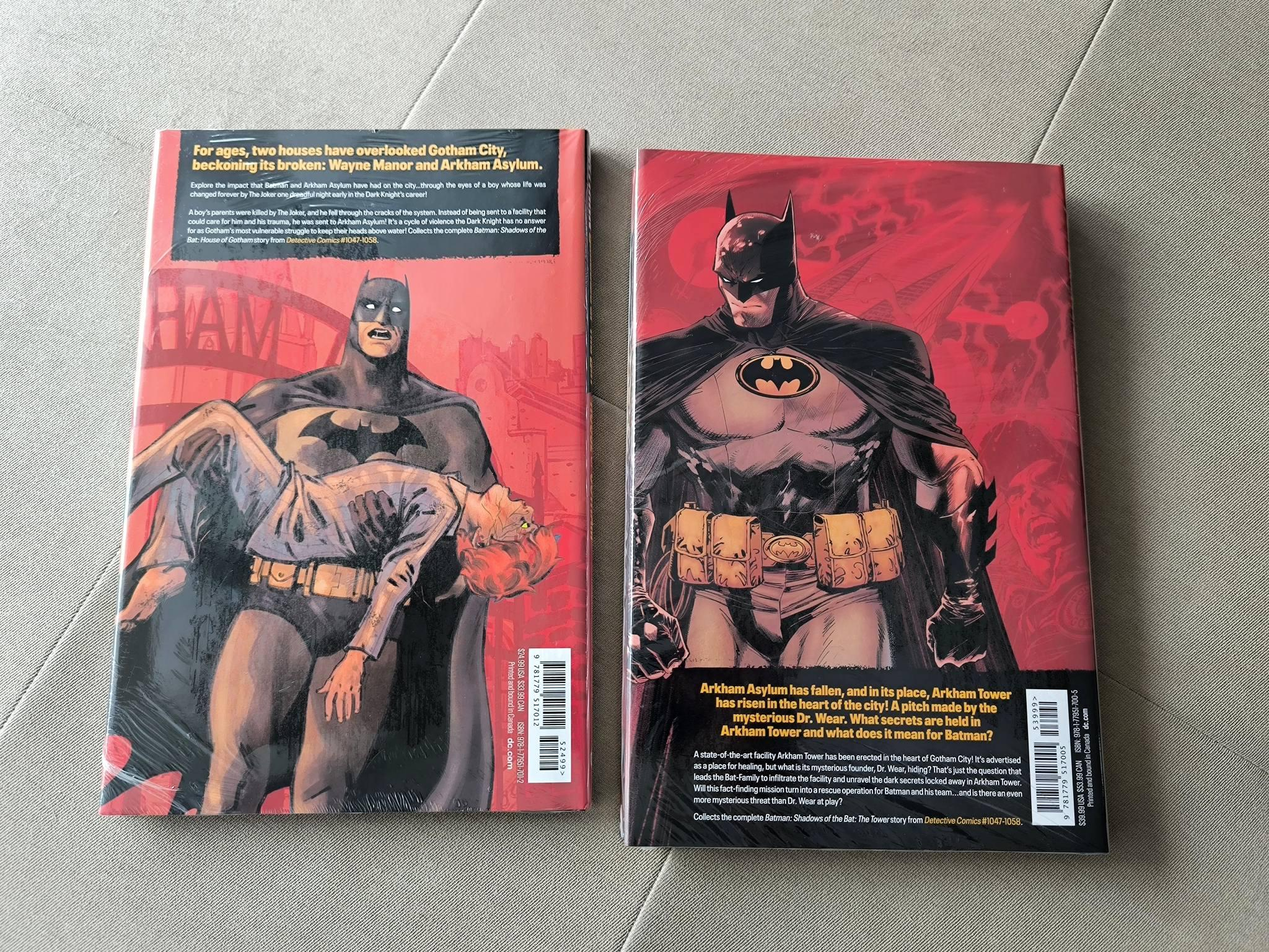comic: (622, 152, 1116, 852), (102, 130, 589, 813)
